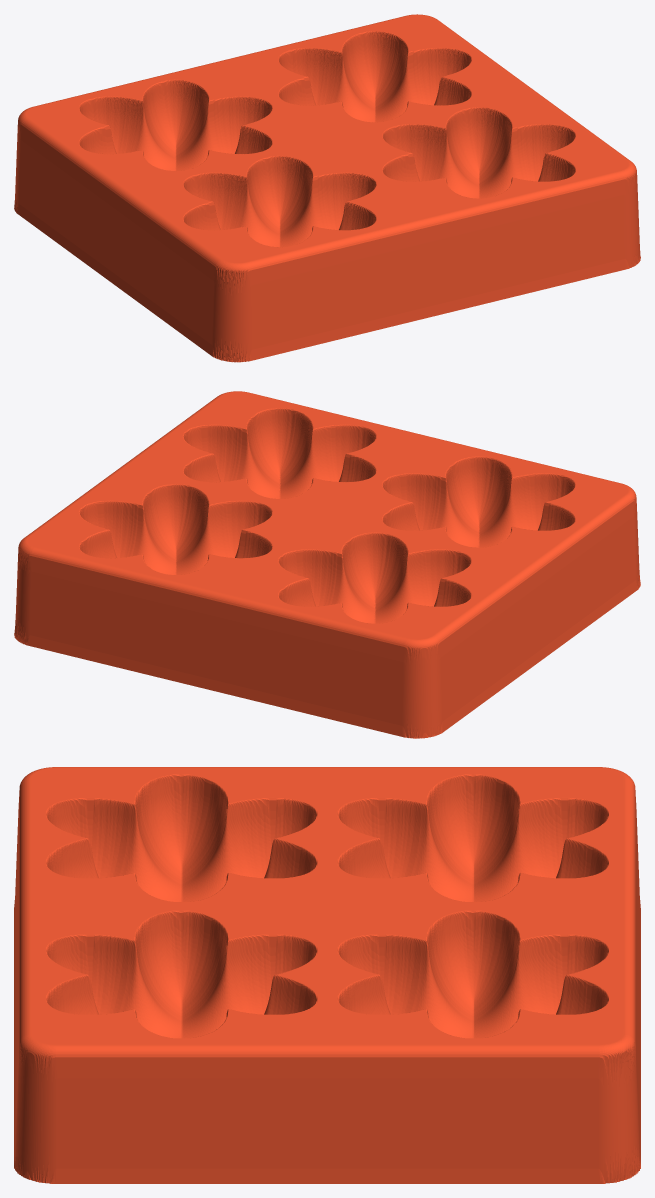
The model's file is mold.glb.
3 views of the same model, one above another, from view 1: azimuth 30°, elevation 25°; view 2: azimuth 150°, elevation 25°; view 3: azimuth 270°, elevation 25° (orthographic). The views are drawn at different scales.
Parts seen in each view (by area): view 1: geometry_0; view 2: geometry_0; view 3: geometry_0.
Boxes of the visible parts, x1,y1,x2,y2 form: geometry_0: (14, 14, 640, 362); geometry_0: (14, 391, 640, 738); geometry_0: (14, 767, 640, 1183).
Bounding box in the file's own units: 0.1466 × 0.031 × 0.1335.
